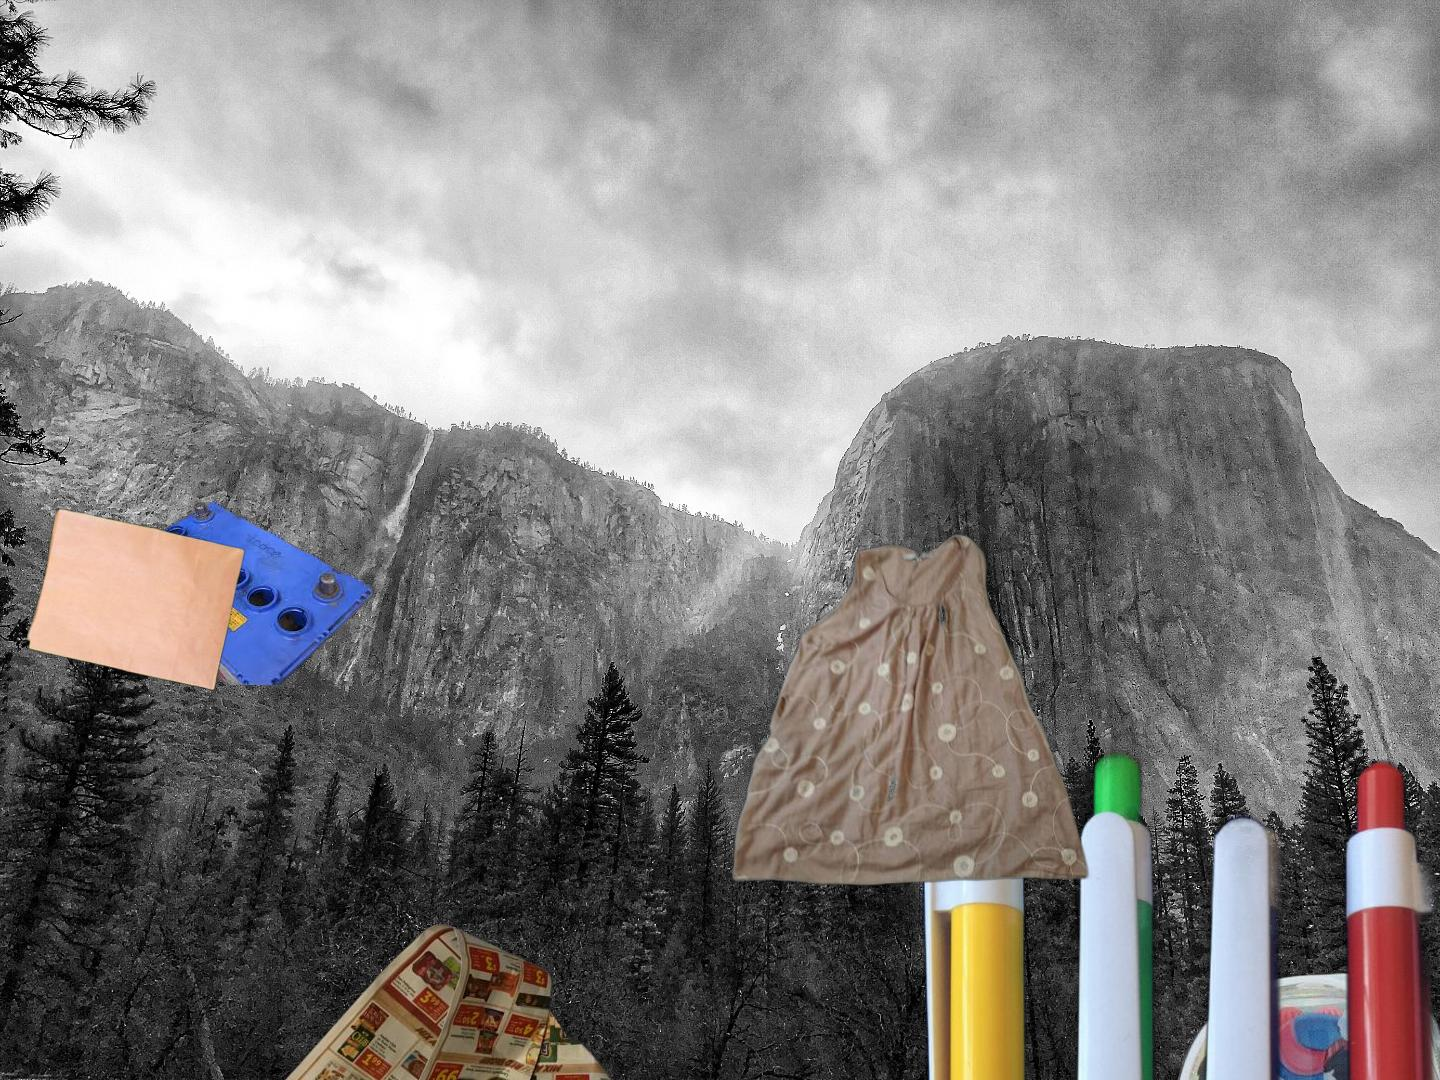battery: (125, 503, 376, 685)
clothes: (728, 526, 1092, 889)
paper: (235, 922, 663, 1080)
paper-bag: (24, 506, 247, 693)
penholder: (916, 740, 1440, 1080), (1155, 946, 1440, 1080)
